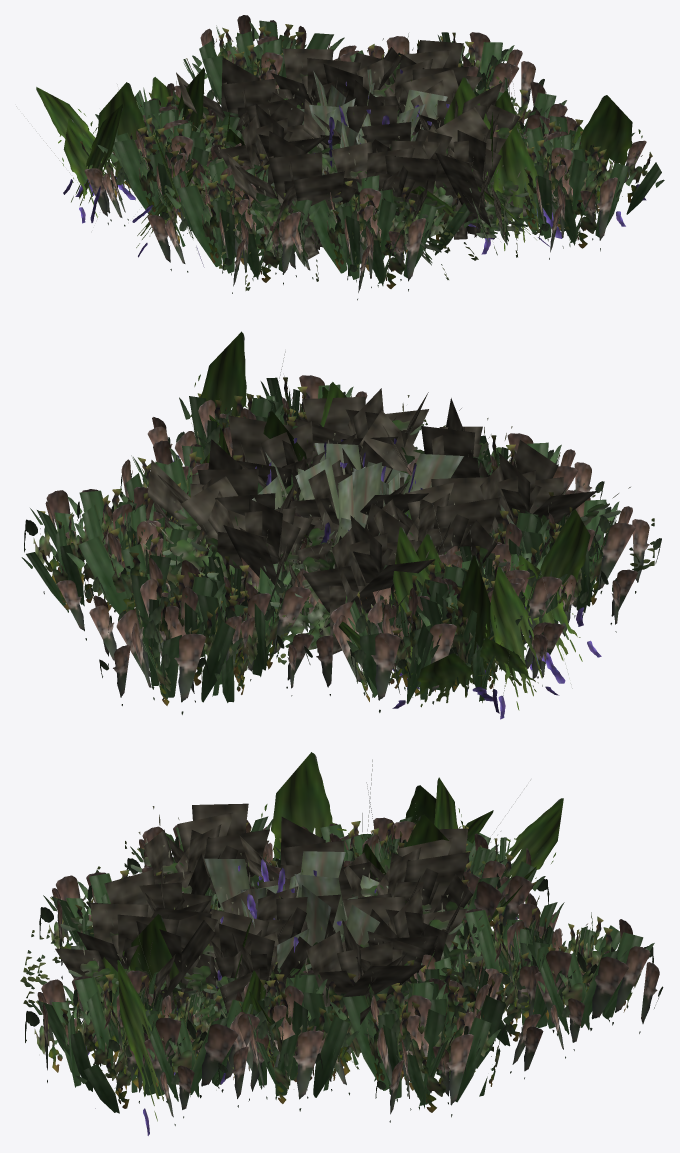
Rendered from grass_08.glb.
3 views of the same model, one above another, from view 1: azimuth 30°, elevation 25°; view 2: azimuth 150°, elevation 25°; view 3: azimuth 270°, elevation 25° (orthographic). The views are drawn at different scales.
Parts seen in each view (by area): view 1: Grass_08; view 2: Grass_08; view 3: Grass_08.
Part boxes in pixels (x1,y1,x2,y2): Grass_08: (16,15,664,300); Grass_08: (21,331,661,719); Grass_08: (20,752,663,1135).
Bounding box in the file's own units: 0.3367 × 0.0971 × 0.3509.
1 material, 1 textured.
